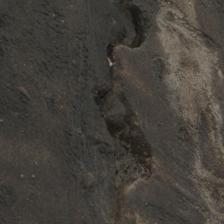Crack: (92, 87, 153, 187), (108, 1, 151, 71)
